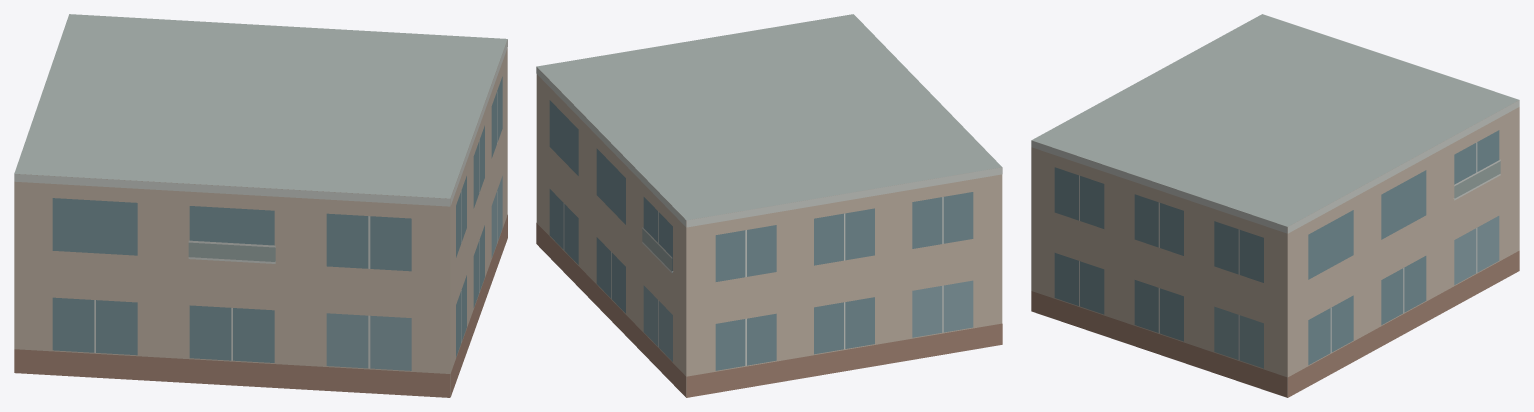
The model's file is survey-upis-32850850.glb.
3 renders of one model, left to right at view 1: azimuth 30°, elevation 25°; view 2: azimuth 150°, elevation 25°; view 3: azimuth 270°, elevation 25°, orthographic. The views are drawn at different scales.
Parts seen in each view (by area): view 1: survey-upis-32850850.tmp; view 2: survey-upis-32850850.tmp; view 3: survey-upis-32850850.tmp.
Boxes of the visible parts, left/top/right/bottom form: survey-upis-32850850.tmp: left=14, top=14, right=507, bottom=397; survey-upis-32850850.tmp: left=536, top=14, right=1002, bottom=397; survey-upis-32850850.tmp: left=1031, top=14, right=1519, bottom=397.
Size of the model in its own units: 16.3 by 6.1 by 15.8.
